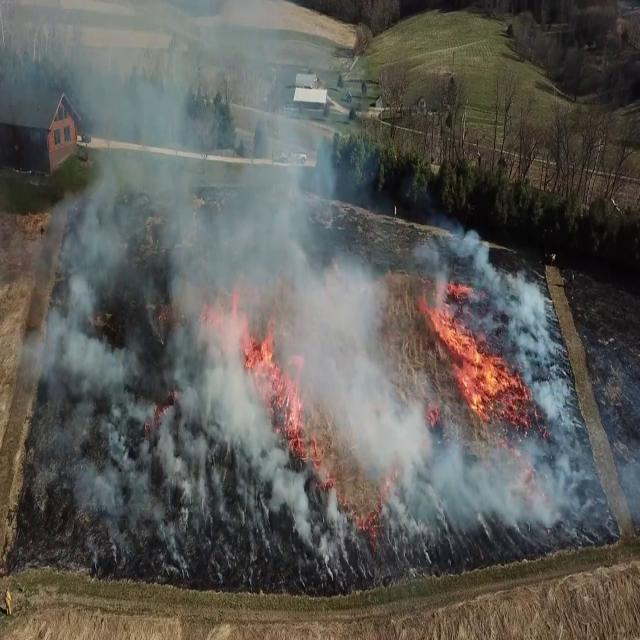Fire: (422, 292, 528, 429), (244, 308, 289, 402)
Smoke: (8, 44, 538, 578), (21, 46, 389, 578)
